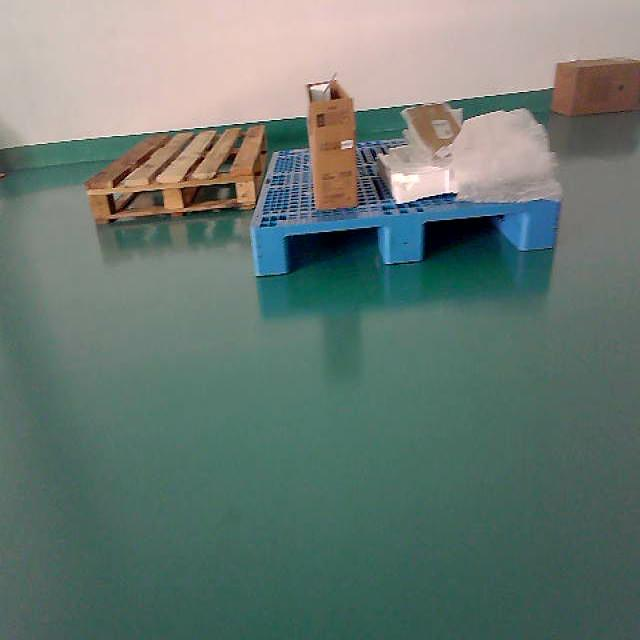euro: (87, 125, 267, 223)
